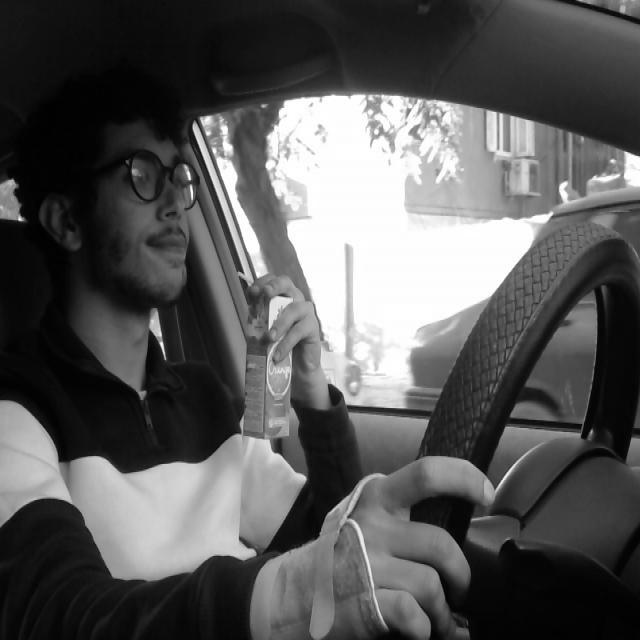Drinking: (234, 270, 294, 440)
